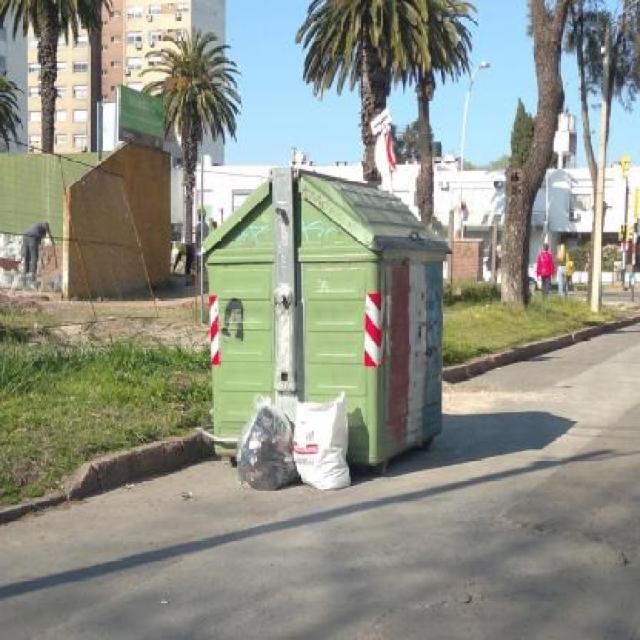garbage: (226, 368, 366, 500)
